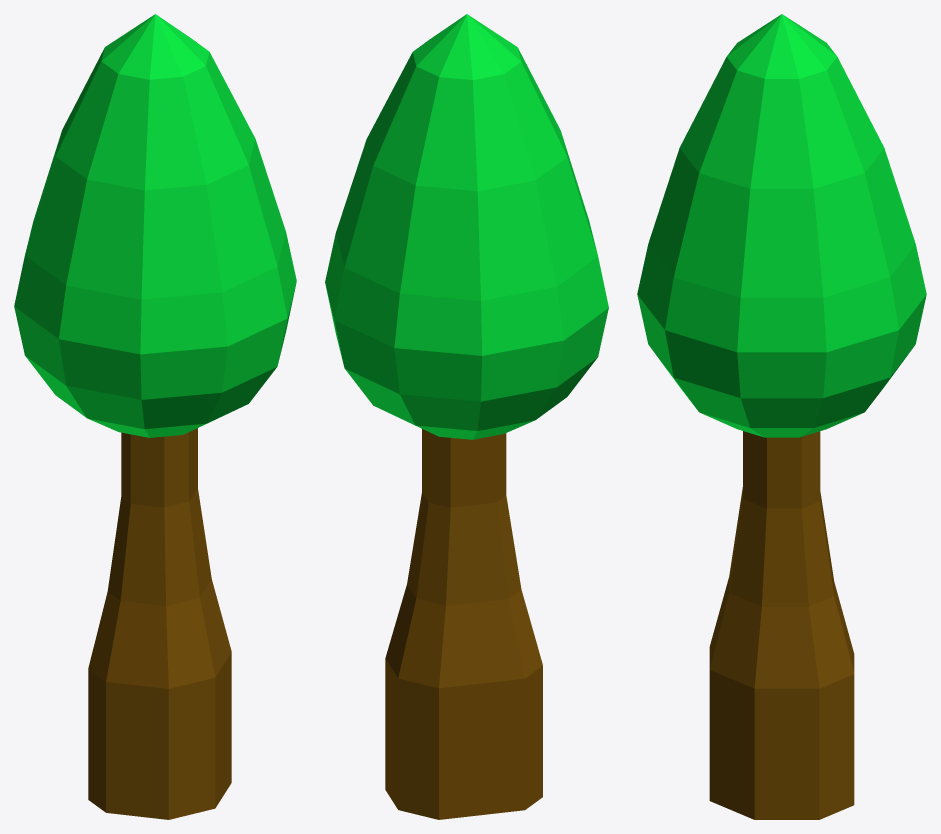
The model's file is Tree1.glb.
3 views of the same model, side by side, from view 1: azimuth 30°, elevation 25°; view 2: azimuth 150°, elevation 25°; view 3: azimuth 270°, elevation 25° (orthographic).
Parts seen in each view (by area): view 1: Tree1 -col; view 2: Tree1 -col; view 3: Tree1 -col.
Boxes of the visible parts, x1,y1,x2,y2 form: Tree1 -col: (14,14,296,819); Tree1 -col: (325,14,608,819); Tree1 -col: (637,14,926,819).
Size of the model in its own units: 1.9 by 5.91 by 2.
